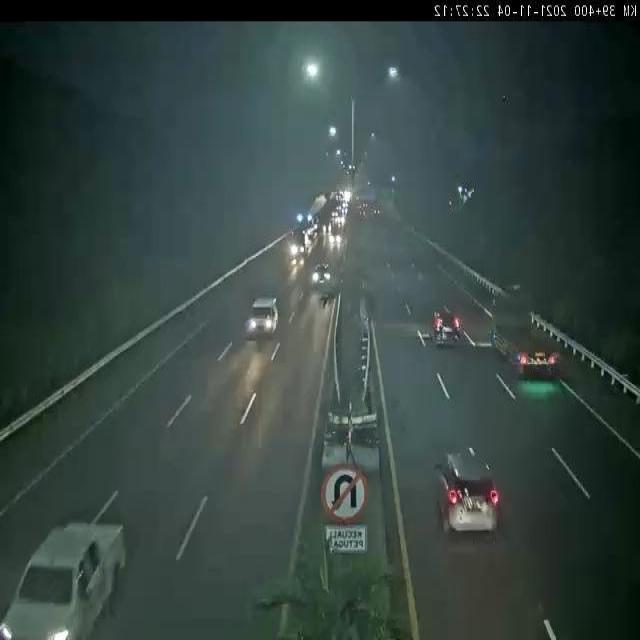Car: (0, 517, 129, 640), (435, 451, 501, 537), (248, 295, 280, 340), (432, 308, 462, 346), (310, 263, 331, 289)
Truck: (490, 289, 560, 378), (290, 211, 320, 260)
